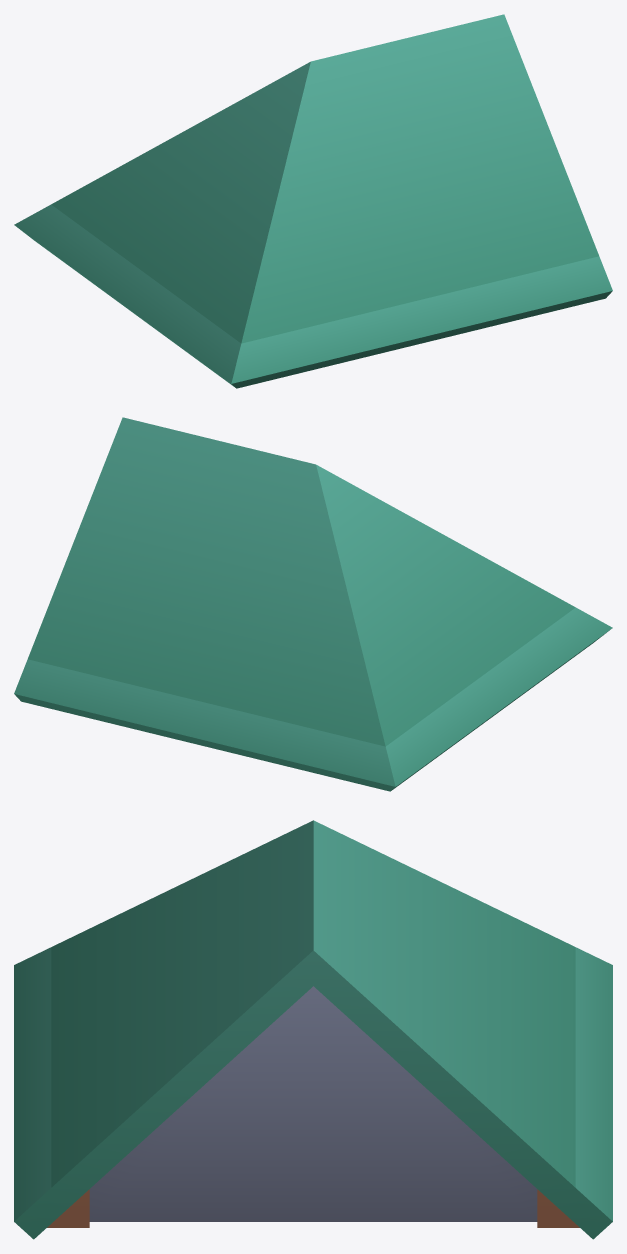
File: town-roof-gable-end.glb
3 views of the same model, one above another, from view 1: azimuth 30°, elevation 25°; view 2: azimuth 150°, elevation 25°; view 3: azimuth 270°, elevation 25° (orthographic). The views are drawn at different scales.
Parts seen in each view (by area): view 1: town-roof-gable-end; view 2: town-roof-gable-end; view 3: town-roof-gable-end.
Boxes of the visible parts, x1=… form: town-roof-gable-end: x1=14, y1=14, x2=612, y2=388; town-roof-gable-end: x1=14, y1=417, x2=612, y2=791; town-roof-gable-end: x1=14, y1=820, x2=612, y2=1239.
Bounding box in the file's own units: 1.09 × 0.5707 × 1.07.
